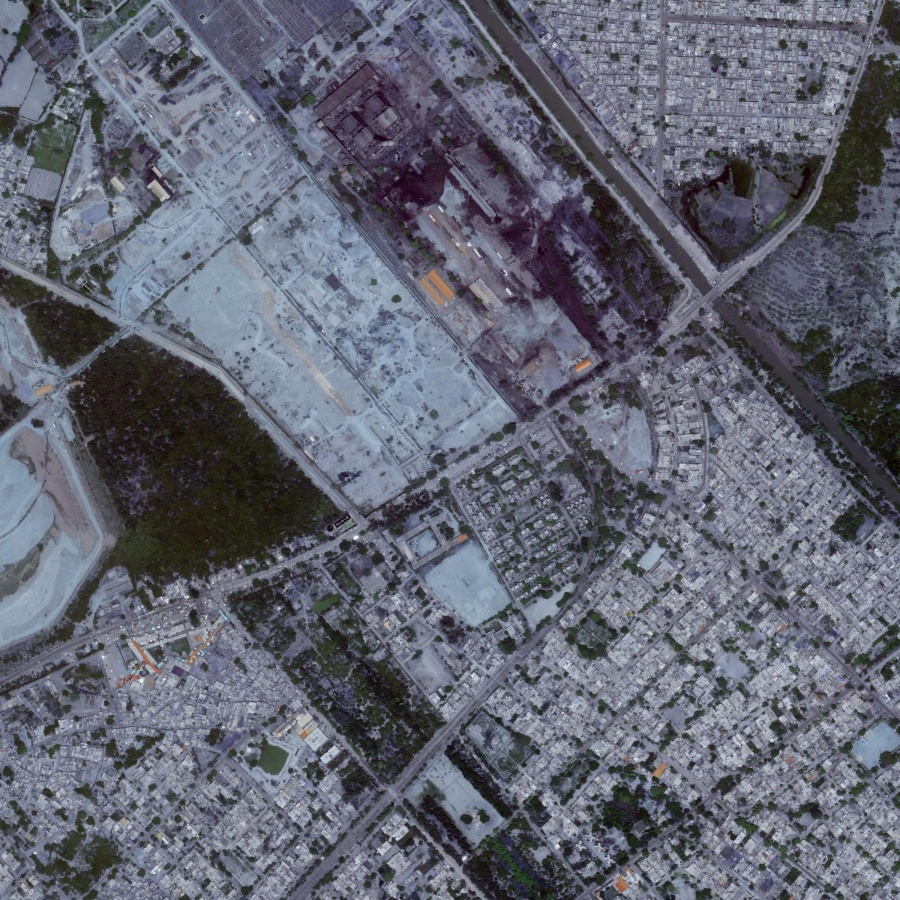PowerPlant: (314, 56, 613, 379)
